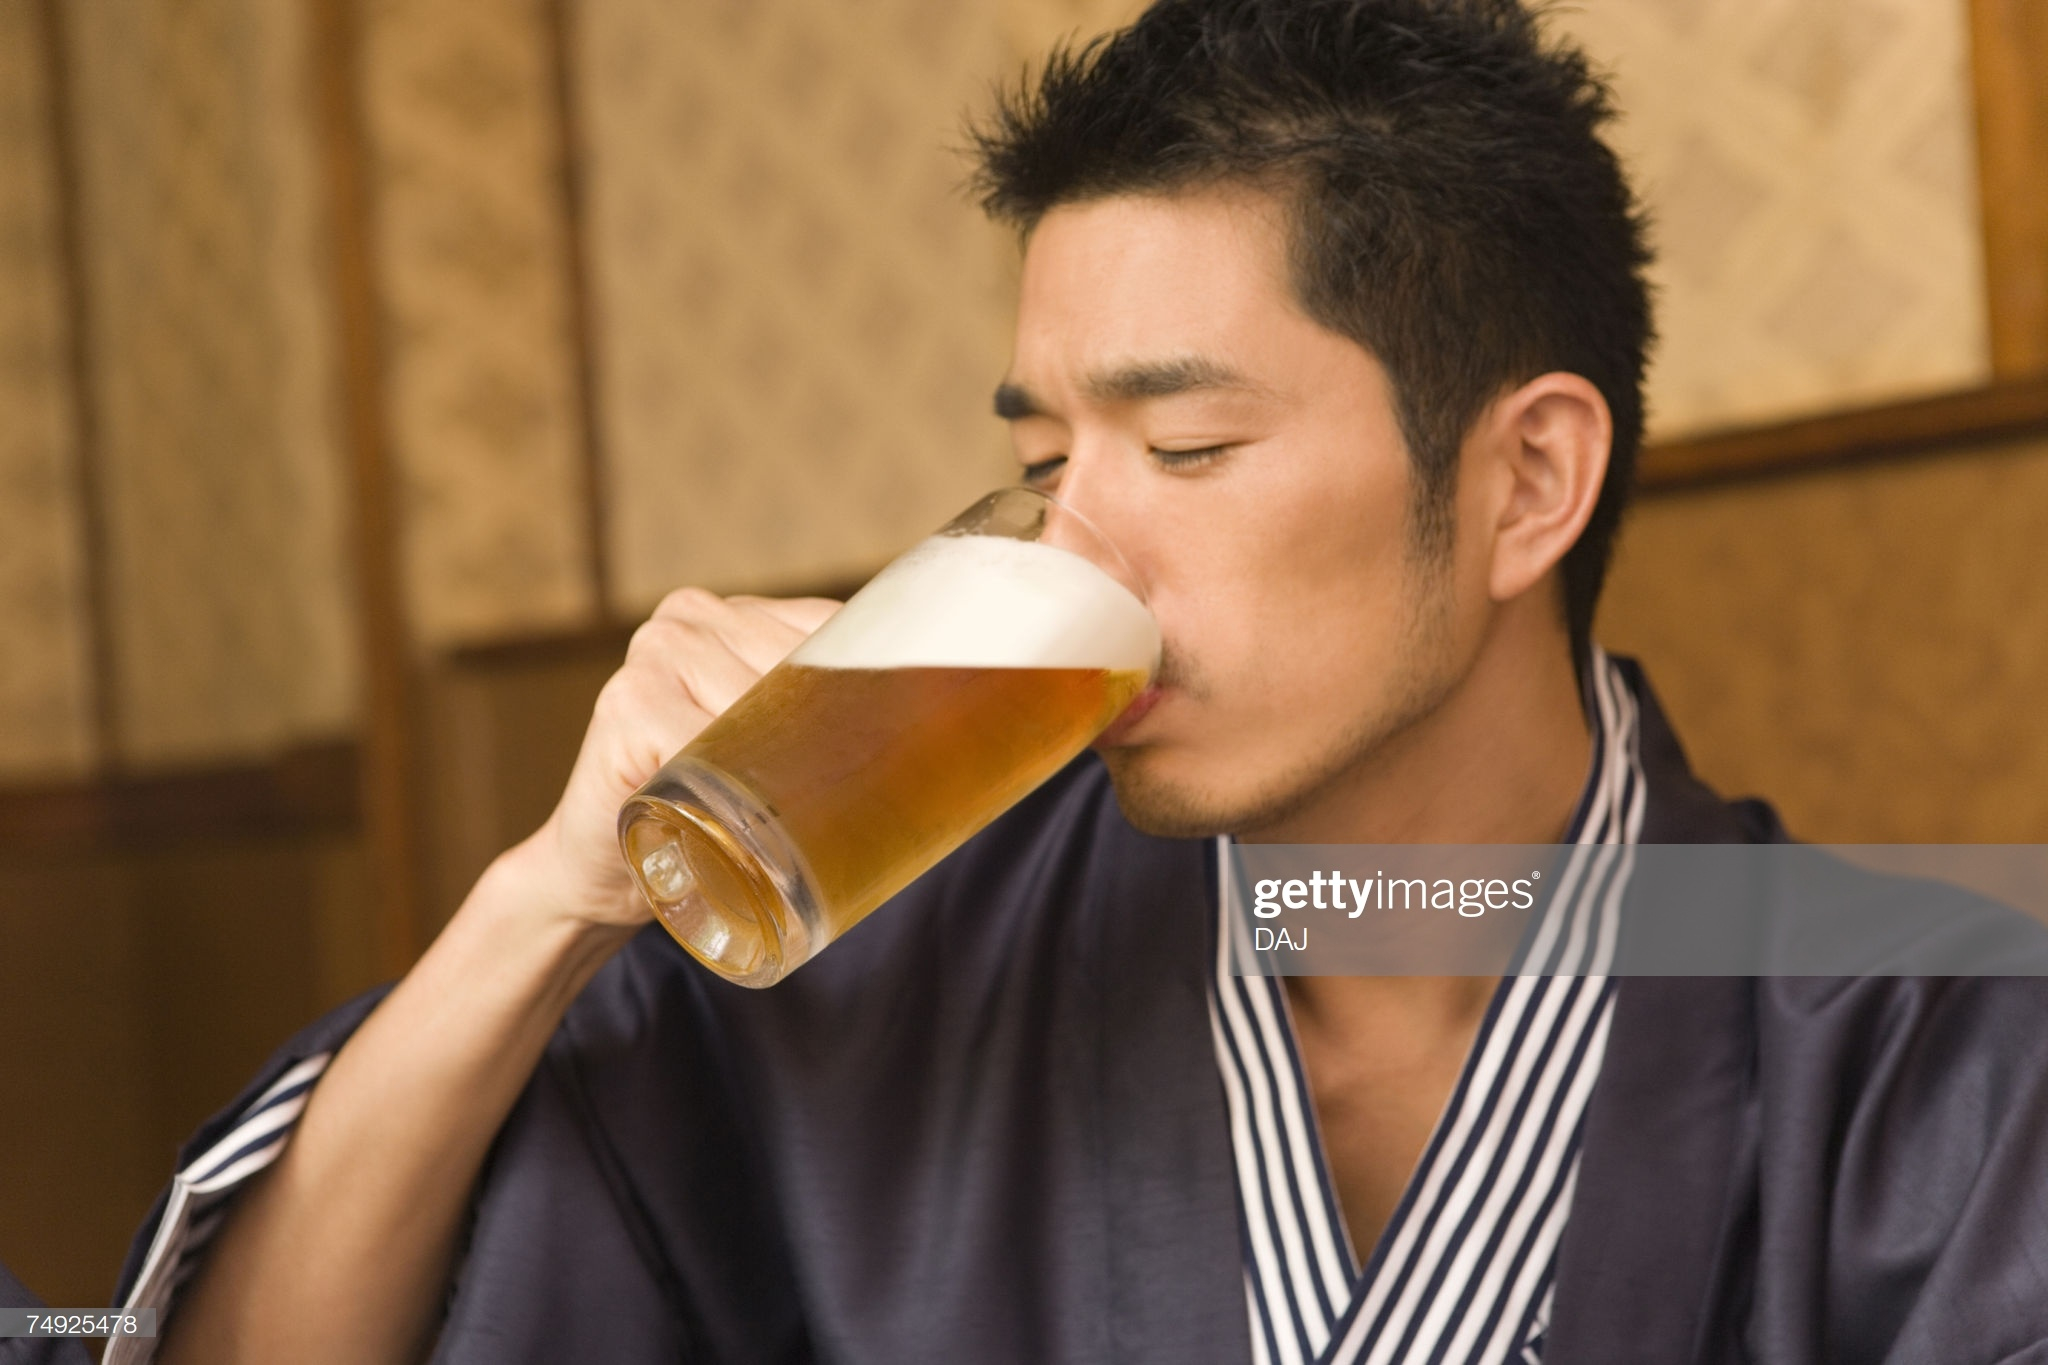glassBeer: (591, 504, 1118, 980)
